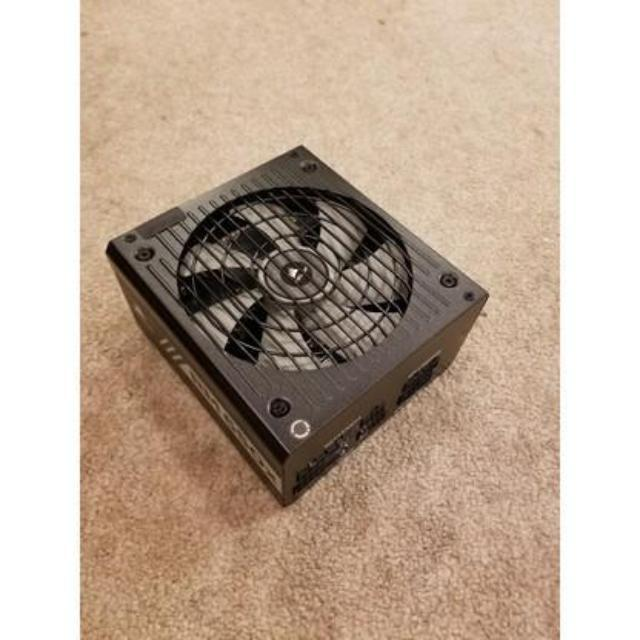PSU: (99, 137, 499, 520)
